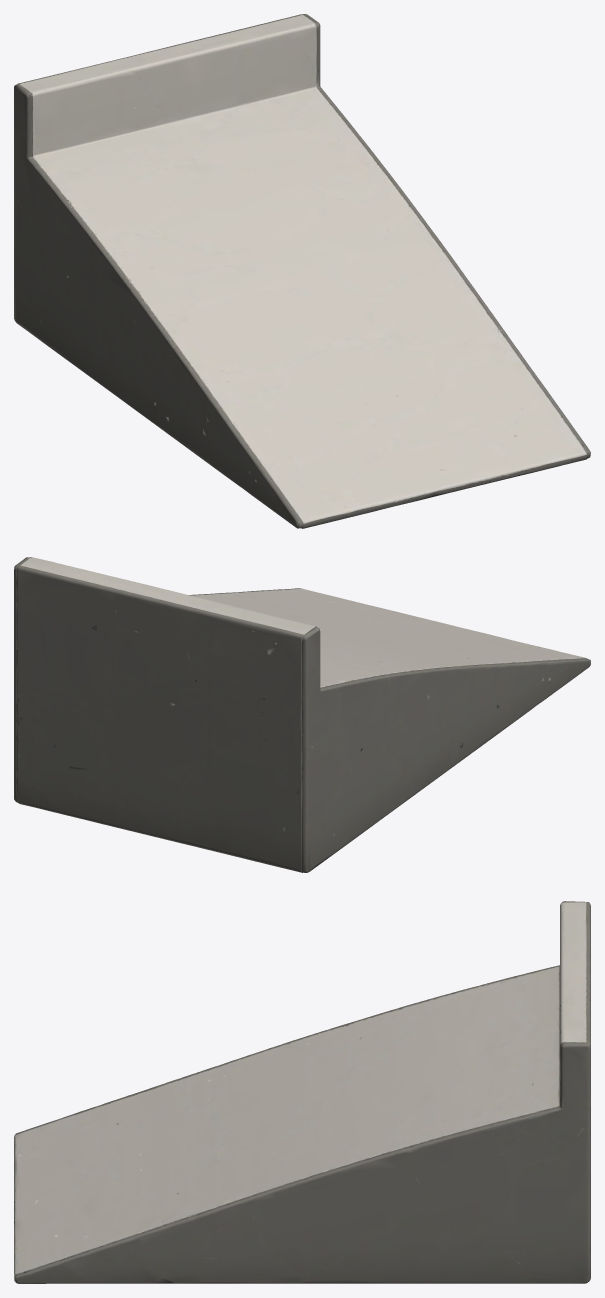
File: model-25-ramp-lipped.glb
3 renders of one model, top to bottom at view 1: azimuth 30°, elevation 25°; view 2: azimuth 150°, elevation 25°; view 3: azimuth 270°, elevation 25°, orthographic.
Parts seen in each view (by area): view 1: node_0; view 2: node_0; view 3: node_0.
Part boxes in pixels (x1=…): node_0: x1=14, y1=14, x2=590, y2=528; node_0: x1=14, y1=557, x2=590, y2=872; node_0: x1=14, y1=901, x2=590, y2=1283.
Size of the model in its own units: 0.5737 by 0.4448 by 0.9664.
Materials: 1 (1 with a texture image).
